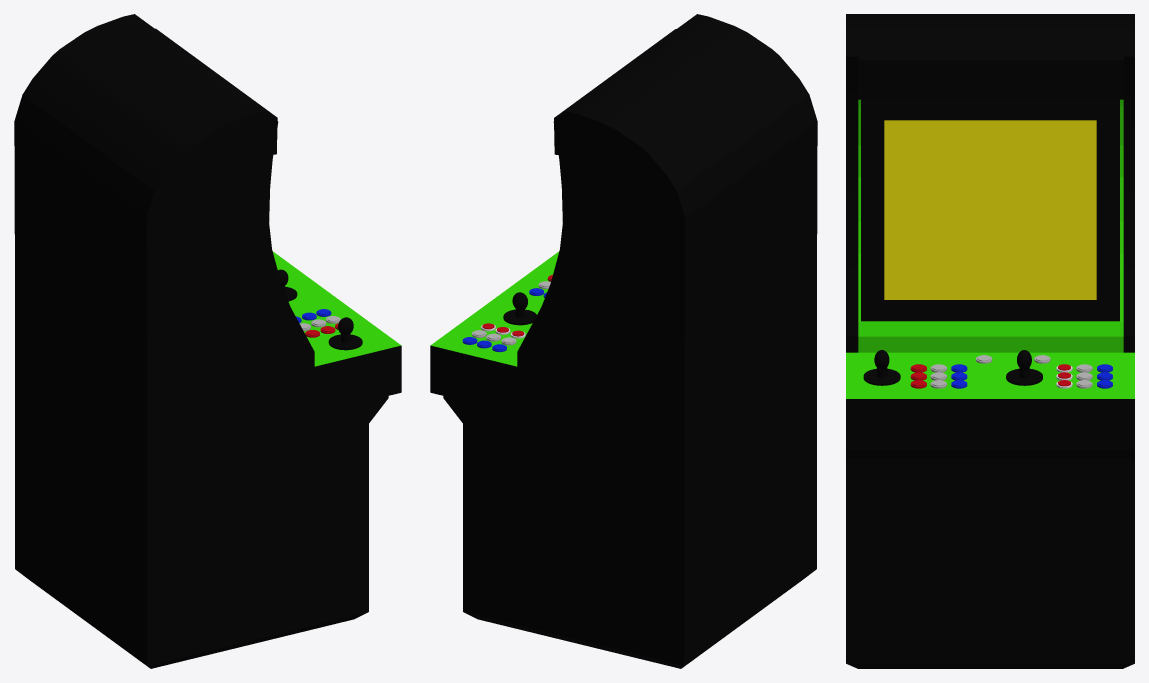
File: ArcadeMachineTextured.fbx
The picture shows the model from 3 angles, left to right: view 1: azimuth 30°, elevation 25°; view 2: azimuth 150°, elevation 25°; view 3: azimuth 270°, elevation 25°; orthographic projection. The views are drawn at different scales.
Parts seen in each view (by area): view 1: Cube; view 2: Cube; view 3: Cube, Cube.002, Cylinder.040, Cylinder.043.
Part boxes in pixels (x1,y1,x2,y2): Cube: [14, 14, 401, 668]; Cube: [430, 14, 817, 668]; Cube: [846, 14, 1134, 668]; Cube.002: [861, 99, 1119, 321]; Cylinder.040: [863, 368, 900, 385]; Cylinder.043: [1006, 368, 1042, 385].
Size of the model in its own units: 222 by 446 by 200.
